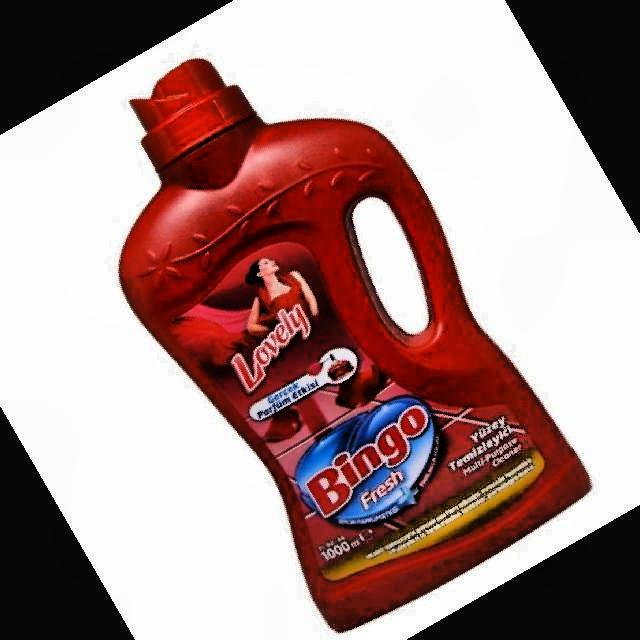plastic: (120, 60, 590, 629)
